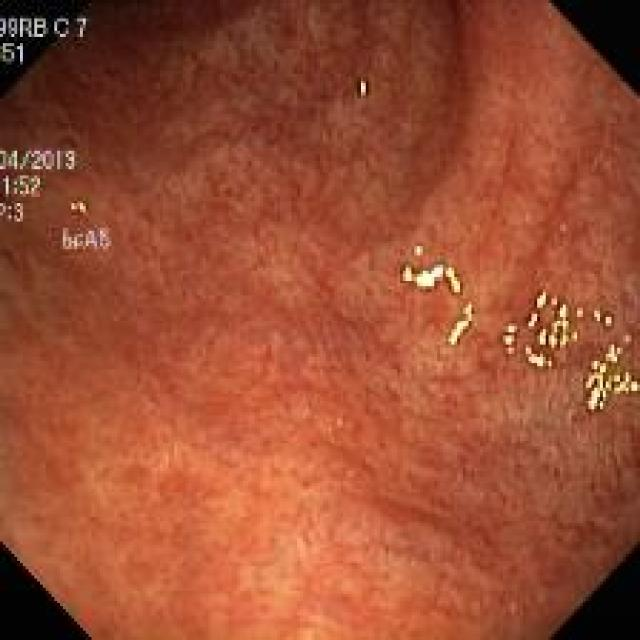ulcerative-colitis-grade-1: (0, 3, 640, 639)
